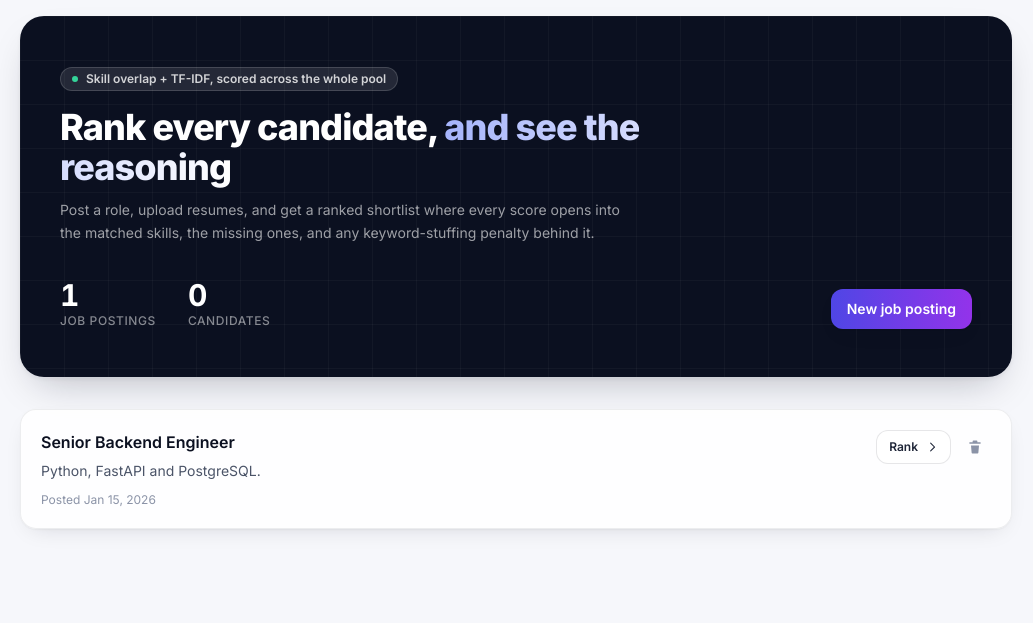
it: JobsPage › deleting › surfaces a failed delete
The image size is (1033, 623).
Check: the link "Senior Backend Engineer" is shown, box [41,432,235,452]
Click the button named "Delete Senior Backend Engineer" at (975, 446), box [959,430,991,462]
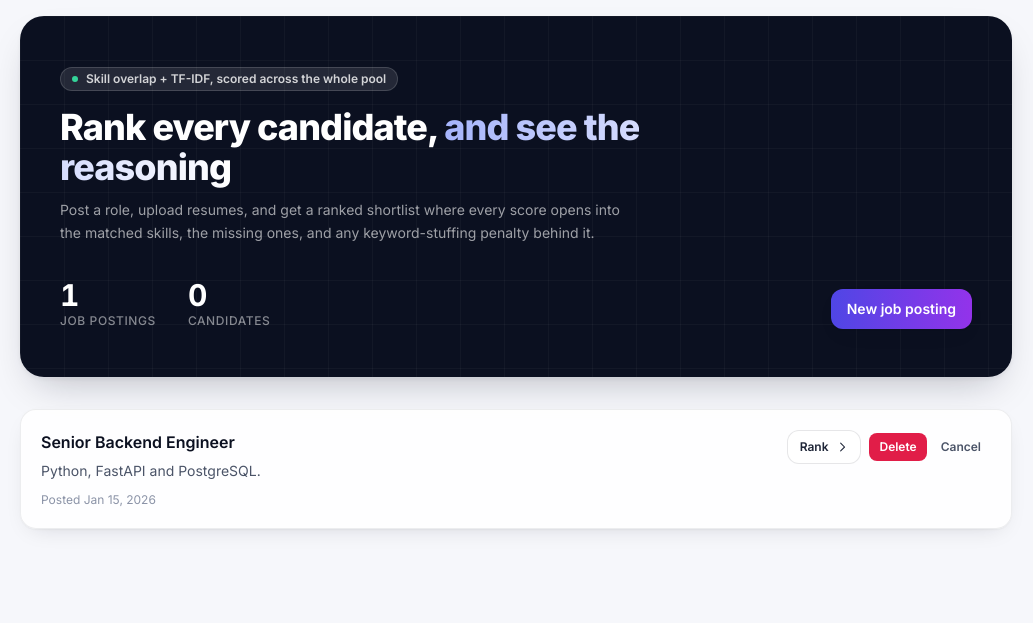
Click the button "Delete" at (898, 446), box [870,432,927,460]
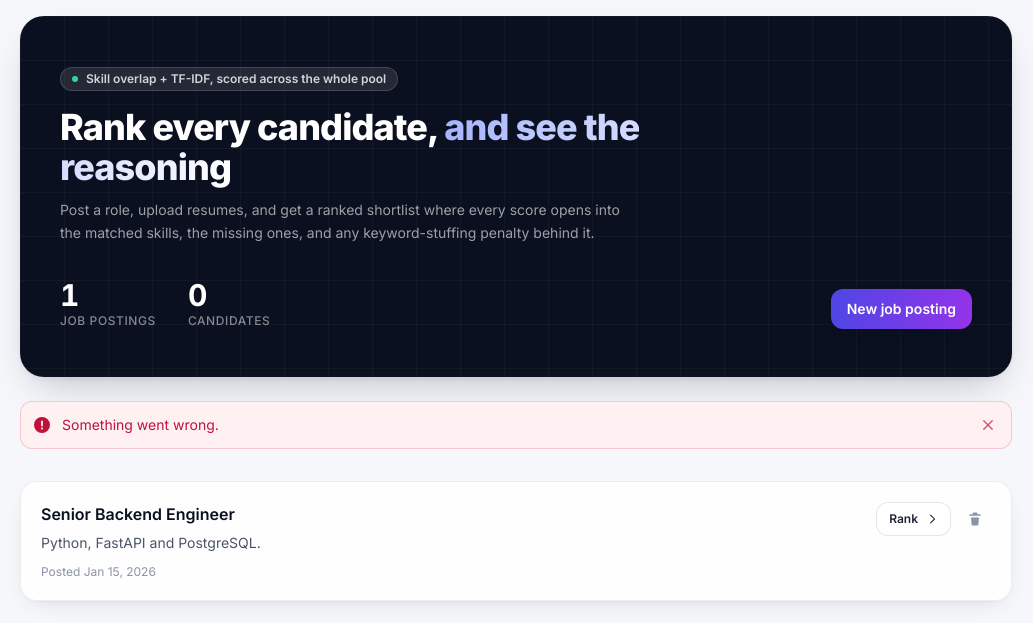
Check: the message reads "Something went wrong.", box [62,416,219,432]
